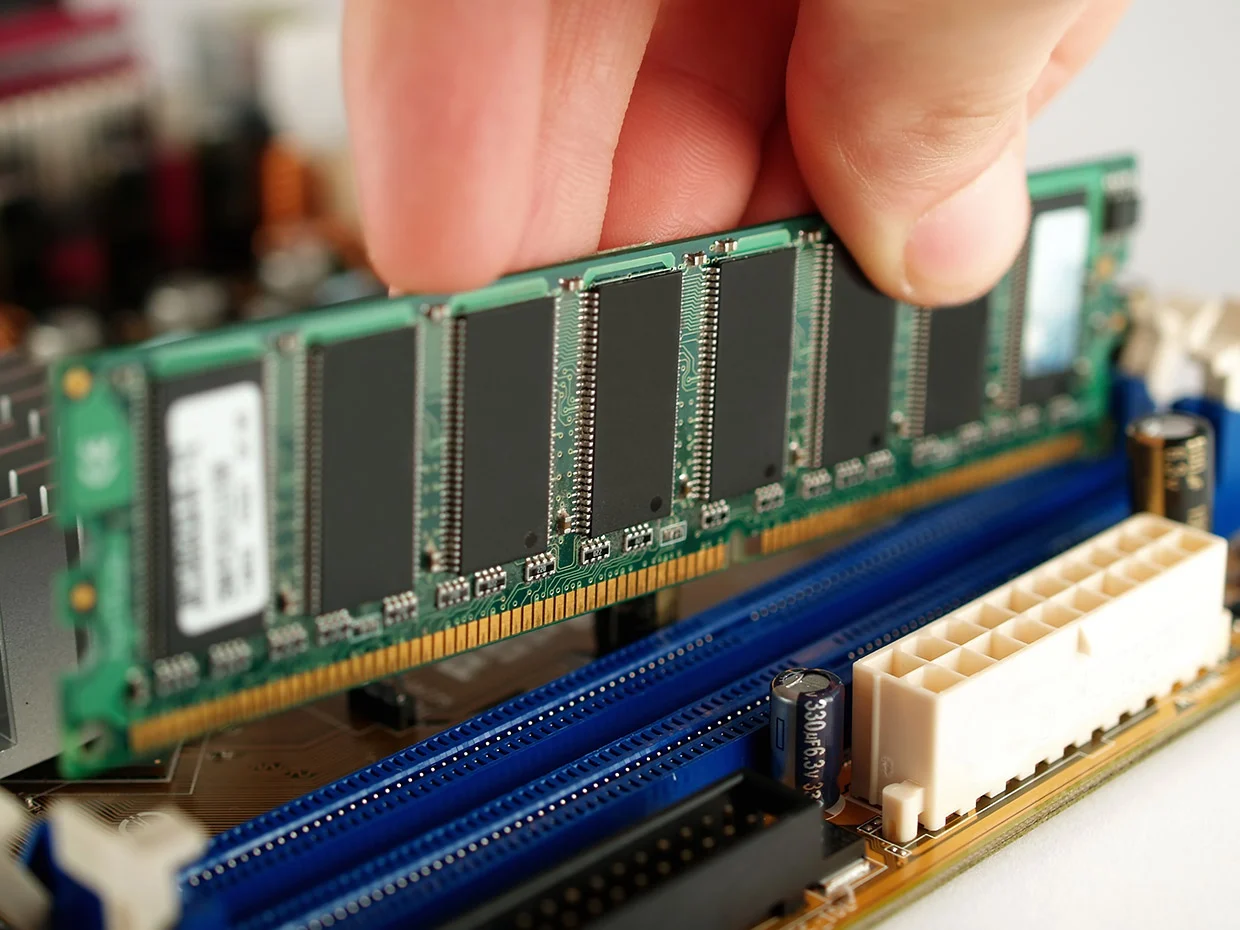ram: (47, 150, 1141, 778)
